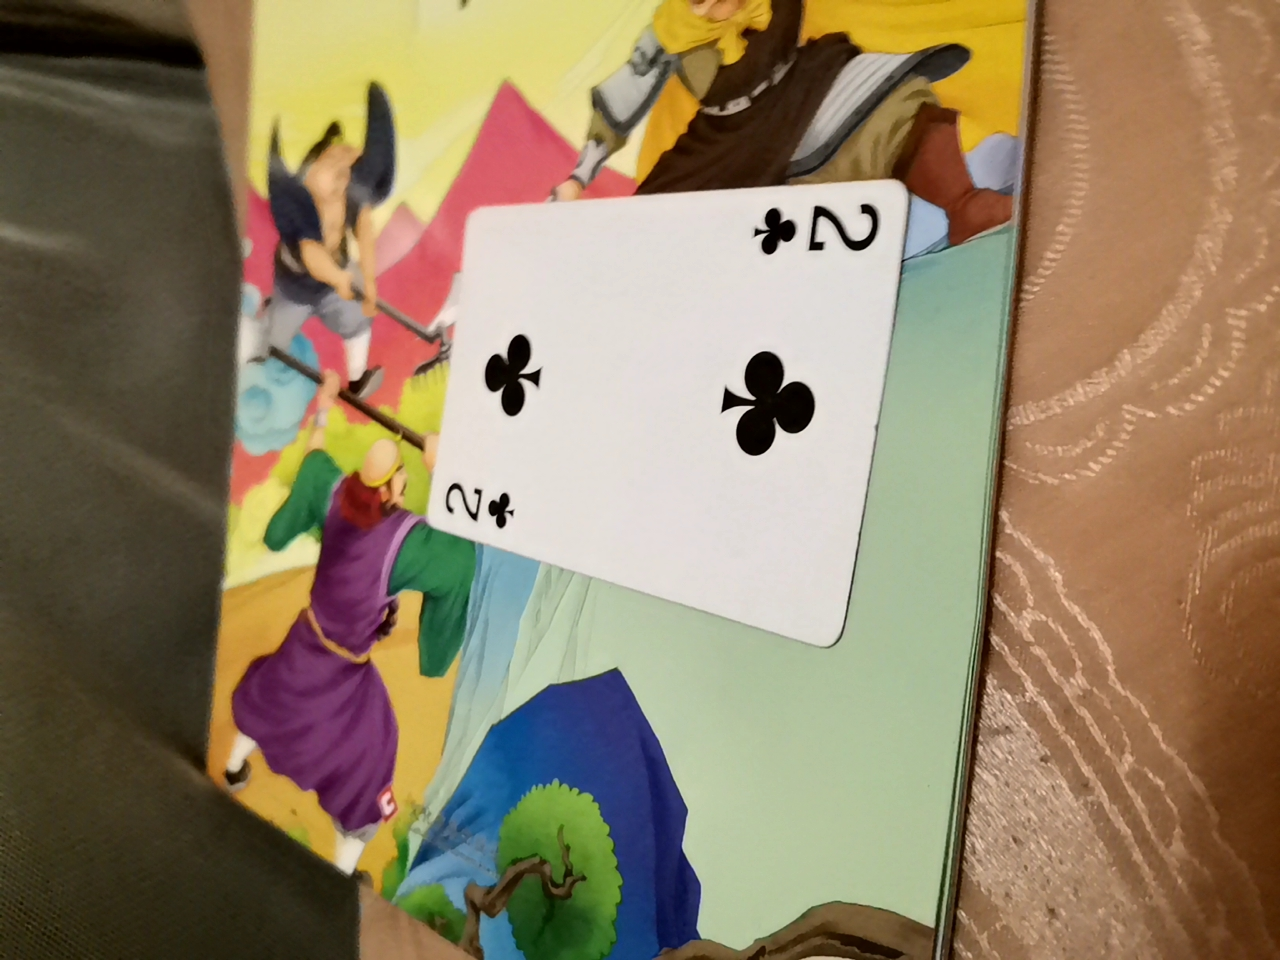mh 2: (378, 165, 854, 649)
